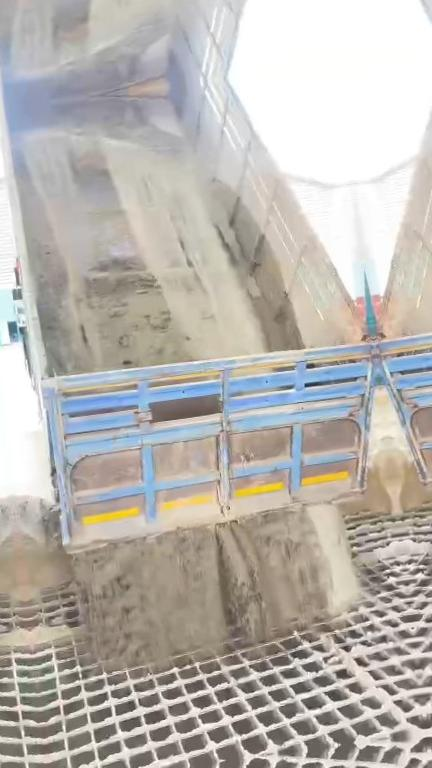sand: (7, 96, 301, 374), (75, 507, 357, 668), (340, 387, 397, 515), (338, 650, 422, 735), (11, 495, 71, 600), (29, 624, 86, 652), (356, 540, 403, 567)
